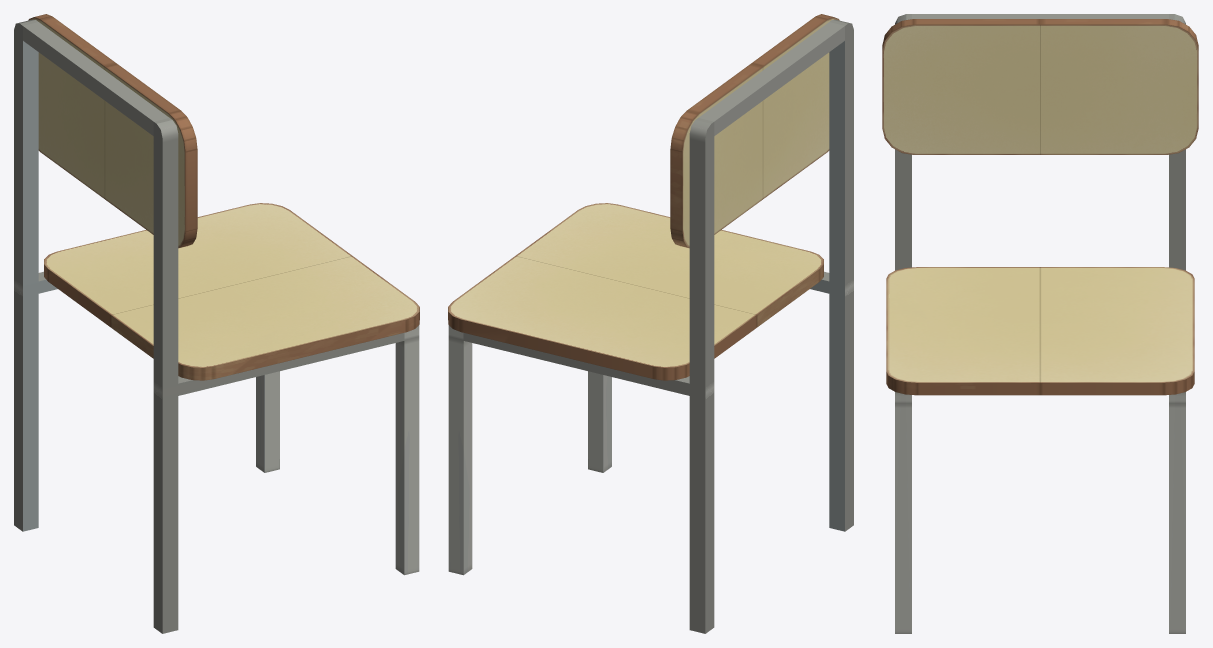
File: Chair.glb
The picture shows the model from 3 angles, left to right: view 1: azimuth 30°, elevation 25°; view 2: azimuth 150°, elevation 25°; view 3: azimuth 270°, elevation 25°; orthographic projection.
Visible parts, largest first — view 1: chair; view 2: chair; view 3: chair.
Boxes of the visible parts, box(x1,y1,x2,y2) form: chair: box(14, 14, 419, 633); chair: box(448, 14, 853, 633); chair: box(882, 14, 1198, 633).
Size of the model in its own units: 0.4375 by 0.805 by 0.4613.
1 material, 1 textured.
